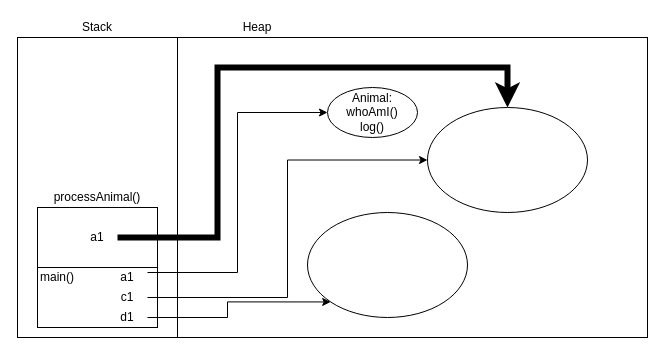
This 665x355 diagram has some shape labels left out. The box of each missing label's shape, as (x1, y1, x2, y2) in pixels:
Cat: Animal-> whoAmI () Aniaml->log() Cat->whoAmI() Cat->run(): (426, 106, 588, 212)
Dog: Animal-> whoAmI () Aniaml->log() Dog->whoAmI(): (306, 212, 468, 318)
